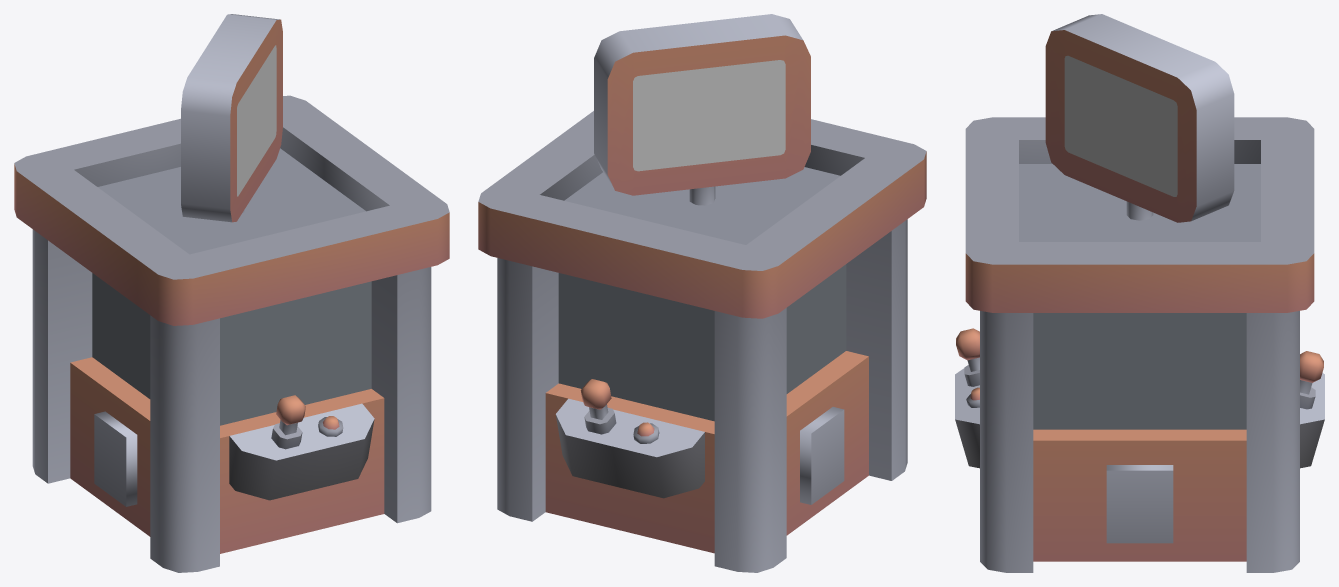
Rendered from furn_claw.glb.
The picture shows the model from 3 angles, left to right: view 1: azimuth 30°, elevation 25°; view 2: azimuth 150°, elevation 25°; view 3: azimuth 270°, elevation 25°; orthographic projection. The views are drawn at different scales.
Bounding box in the file's own units: 1.44 × 2.09 × 1.53.
